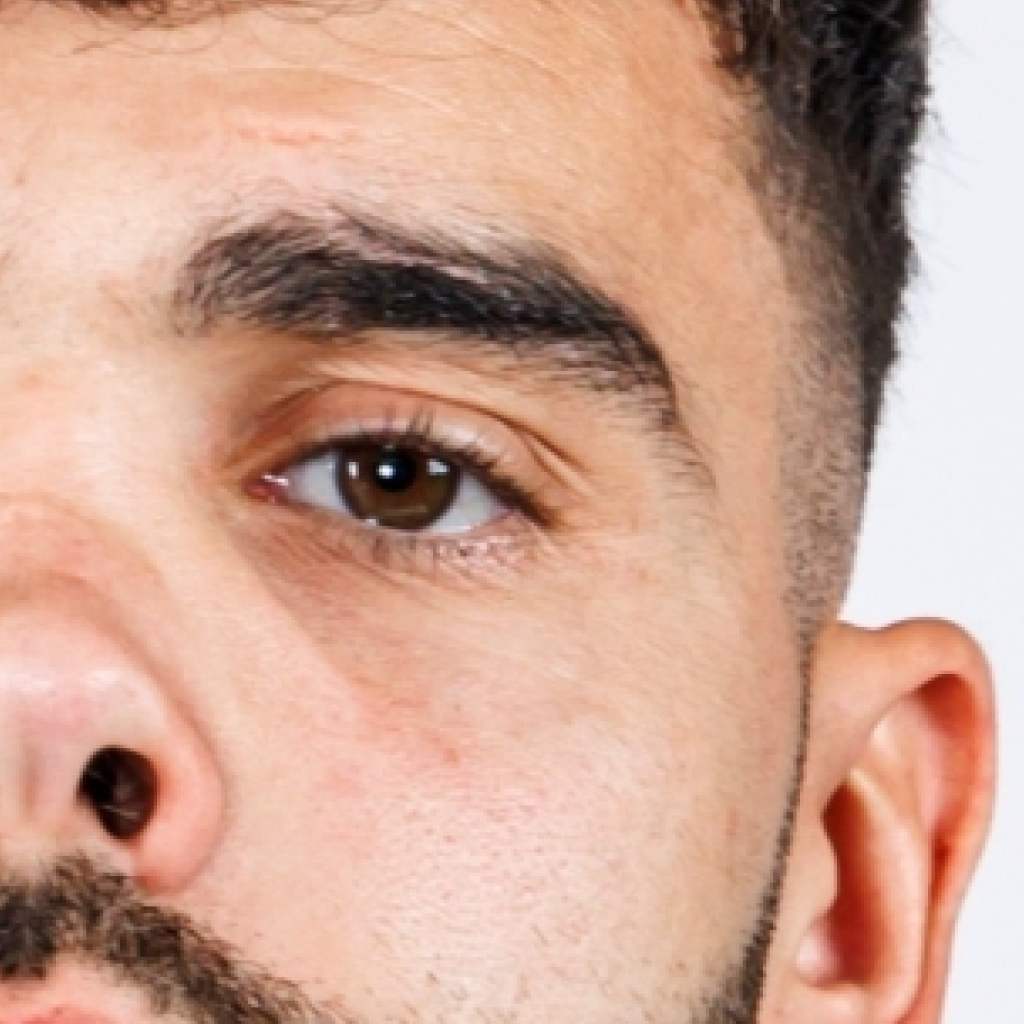iris: (335, 442, 459, 529)
pupil: (372, 451, 416, 493)
sclera: (437, 473, 508, 528), (280, 452, 344, 511)
